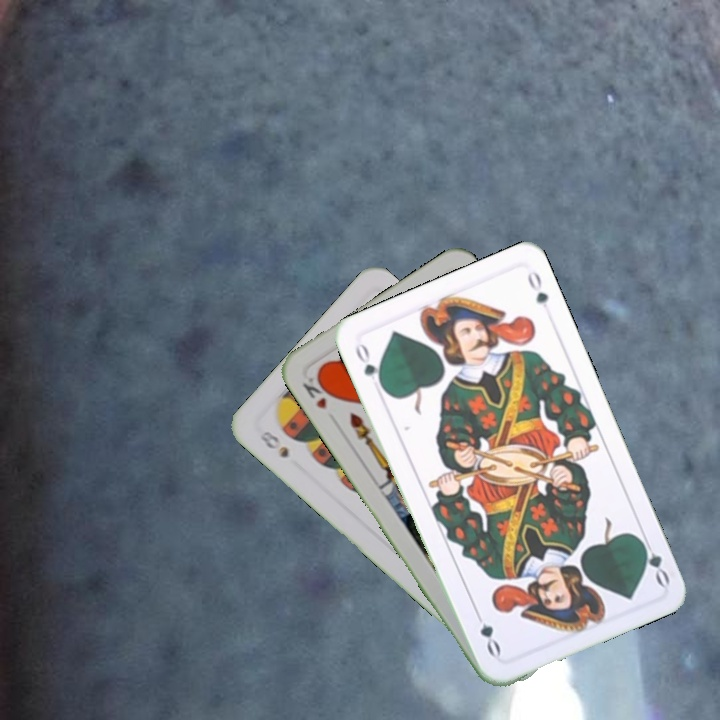GO: (634, 531, 673, 589), (351, 339, 387, 392)
HK: (298, 370, 335, 413)
S8: (255, 427, 292, 461)
